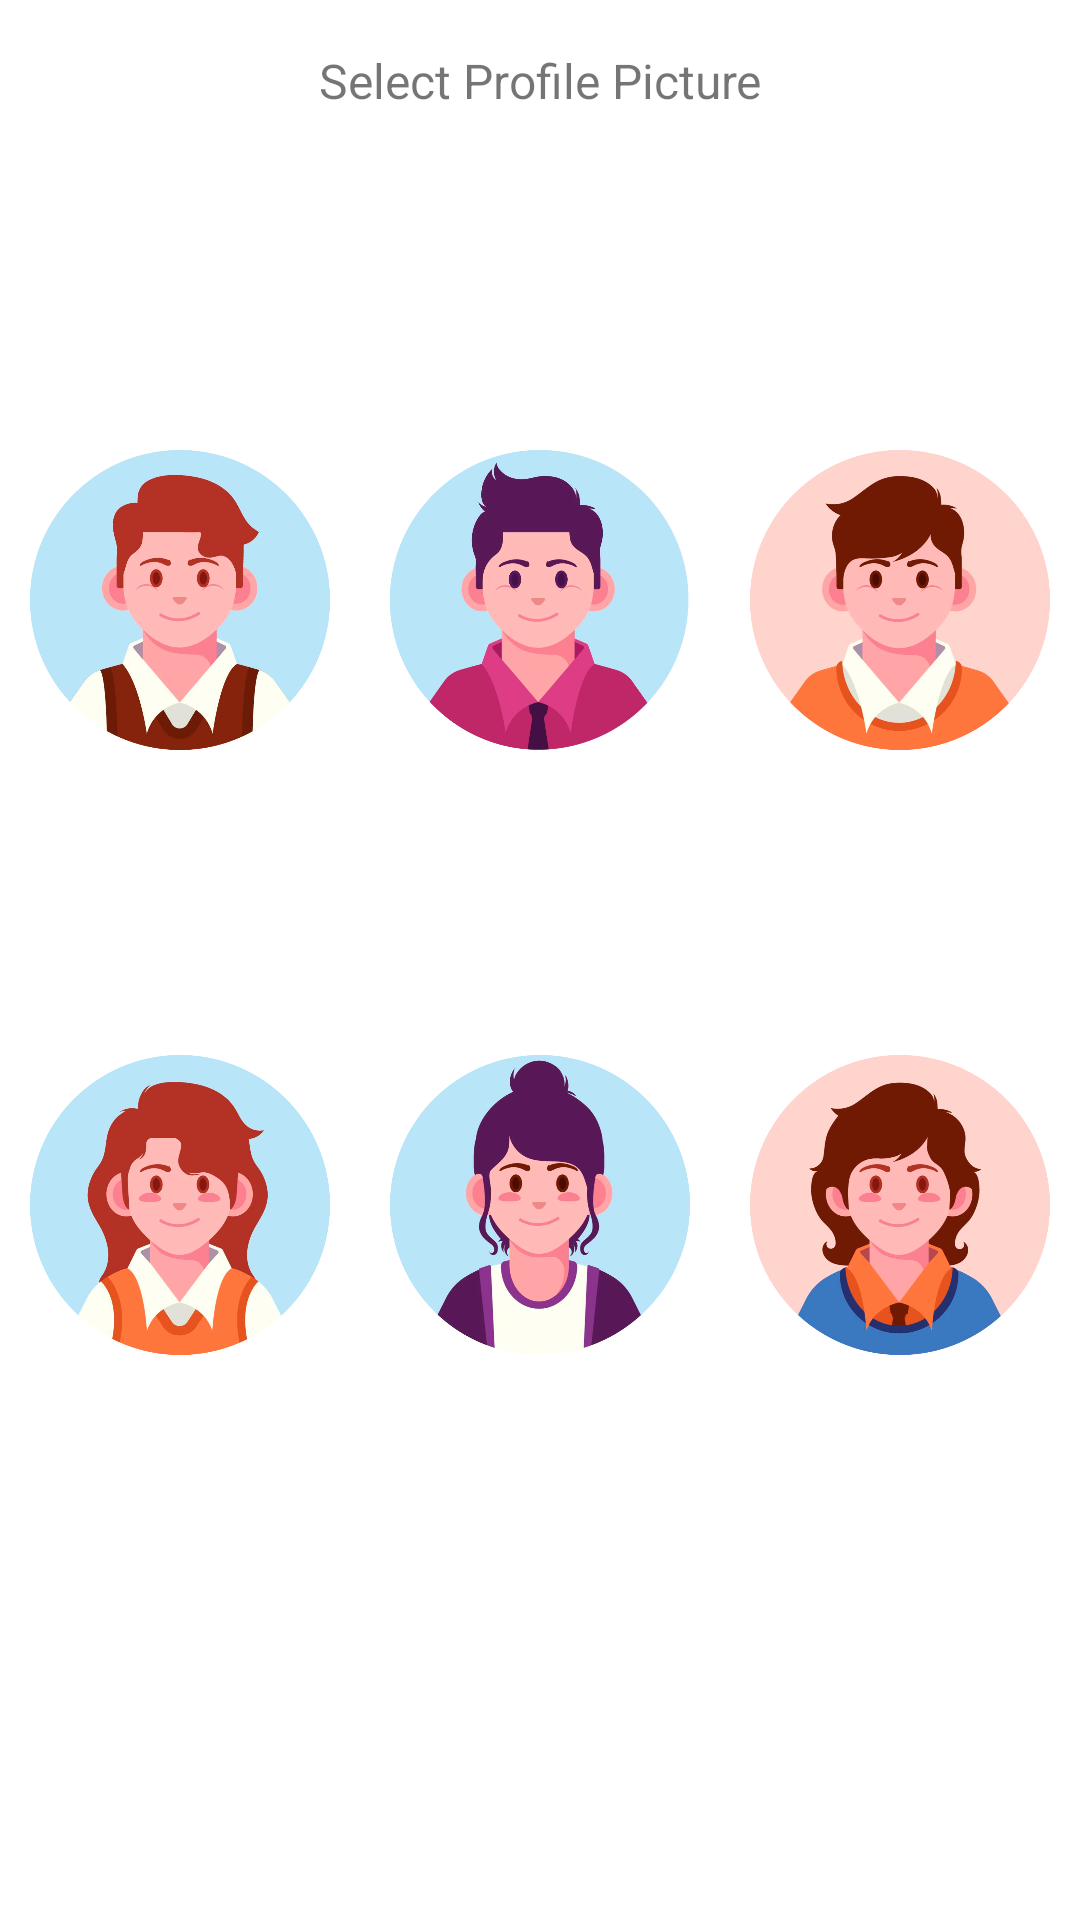

Locate icon controls on the screen. Image size 1080px x 1920px, boxes as (x1, y1, x2, y2).
boy: (30, 450, 330, 750), (390, 450, 689, 750), (750, 450, 1050, 750)
girl: (30, 1055, 330, 1355), (390, 1055, 690, 1348), (750, 1055, 1050, 1355)
